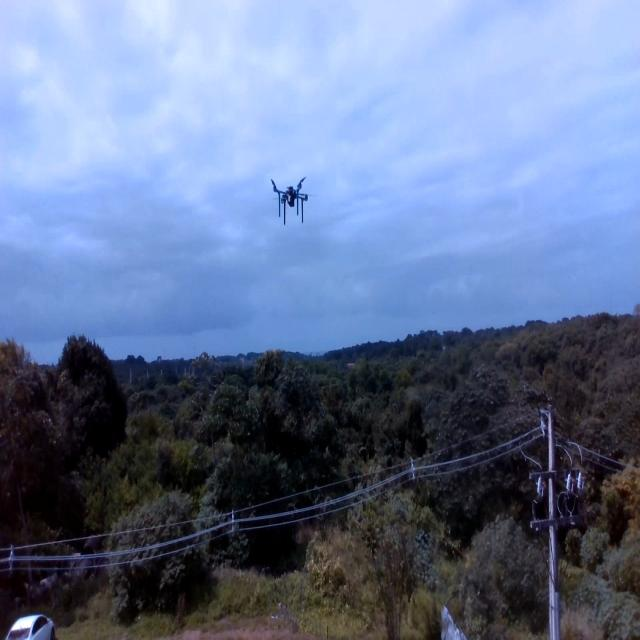-uav-: (264, 165, 318, 233)
